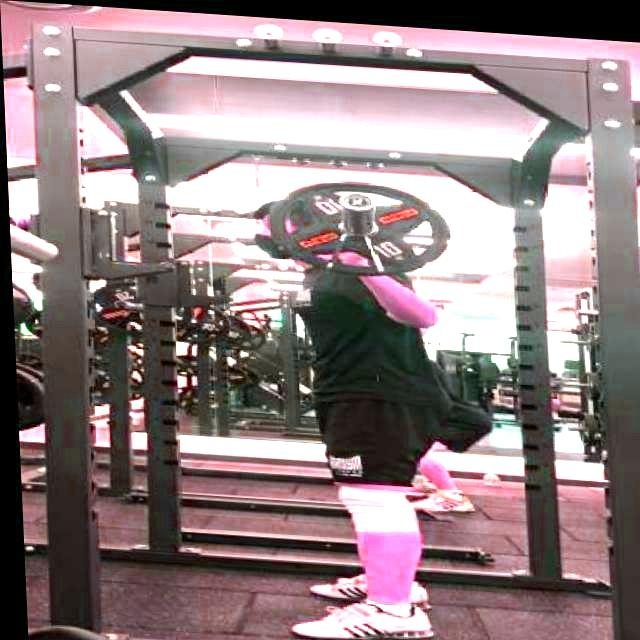barbell: (262, 168, 455, 278)
